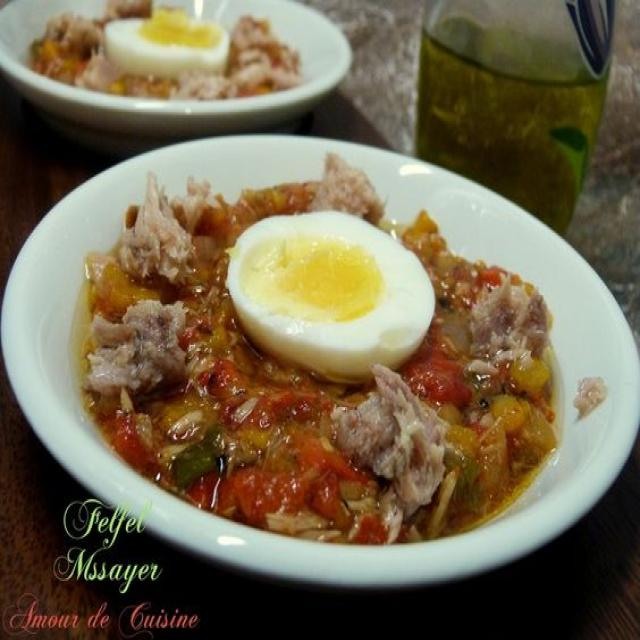Salade mechweya: (0, 114, 640, 593), (0, 0, 384, 107)
